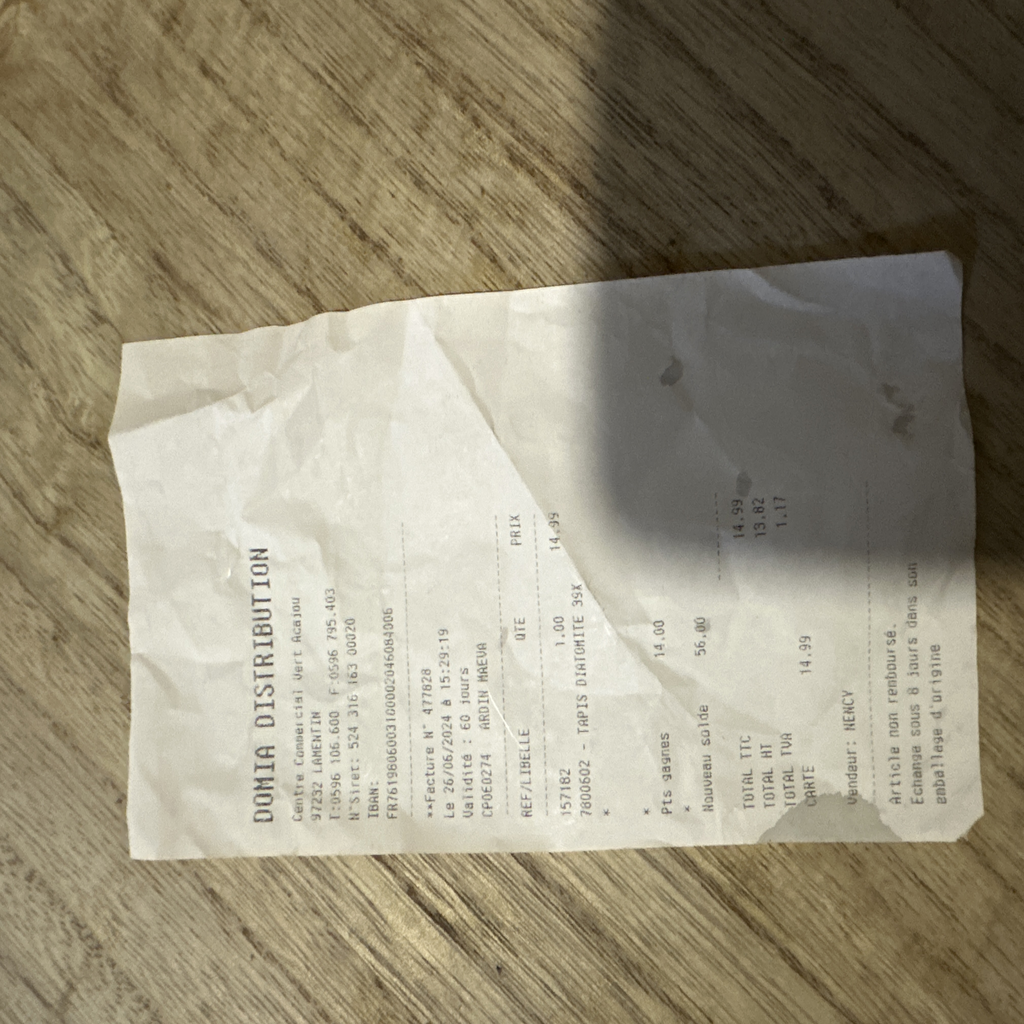recipt: (111, 252, 980, 860)
